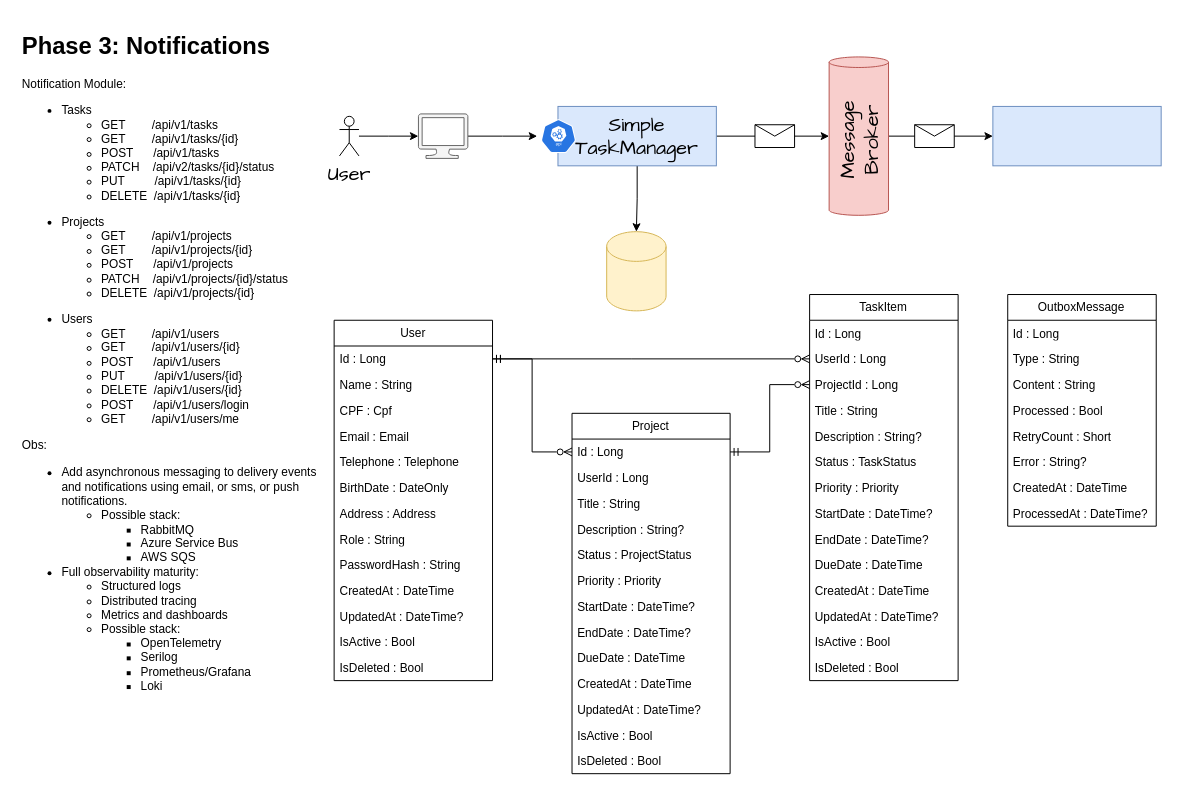
Some shapes in this 1178 by 793 pixel diagram are drawn without their labels. Here are the shapes that lost their labels. From the top down, the centre of each, then its label:
point 1076,135: Notification Module
point 636,271: MySQL
